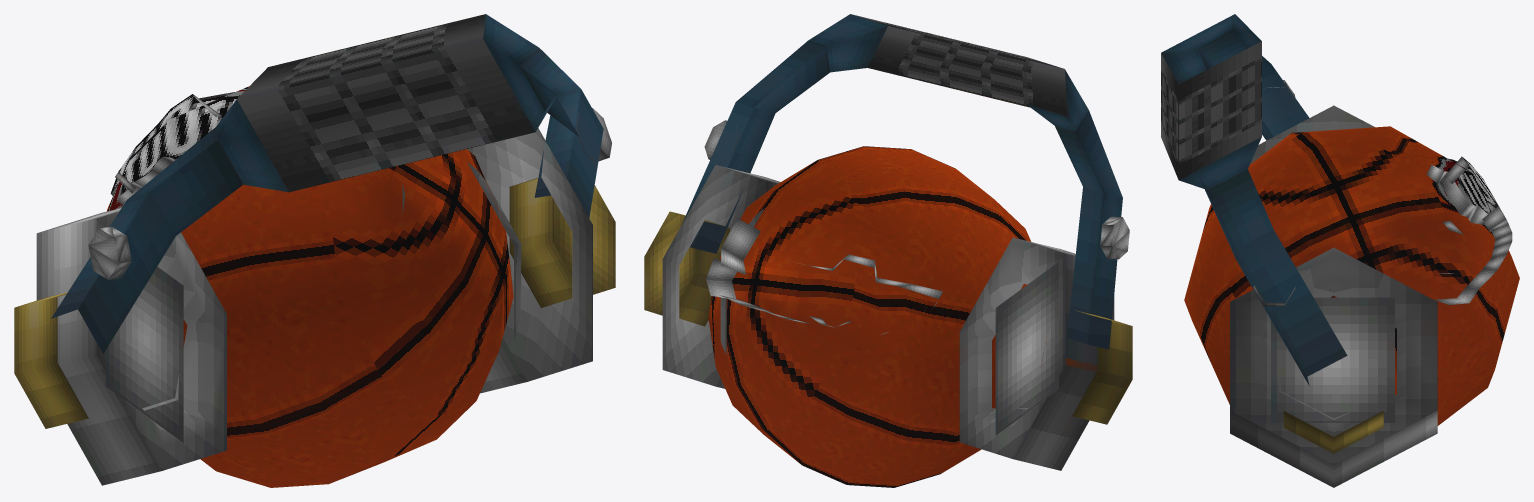
Rendered from ps2_save-icons_nbashootout2004-settings.glb.
3 views of the same model, side by side, from view 1: azimuth 30°, elevation 25°; view 2: azimuth 150°, elevation 25°; view 3: azimuth 270°, elevation 25° (orthographic). The views are drawn at different scales.
Parts seen in each view (by area): view 1: so2k4.ico; view 2: so2k4.ico; view 3: so2k4.ico.
Boxes of the visible parts, <box> form: so2k4.ico: <box>14,14,615,487</box>; so2k4.ico: <box>644,14,1132,487</box>; so2k4.ico: <box>1161,14,1519,487</box>.
Bounding box in the file's own units: 3.54 × 3 × 2.56.
Materials: 1 (1 with a texture image).
